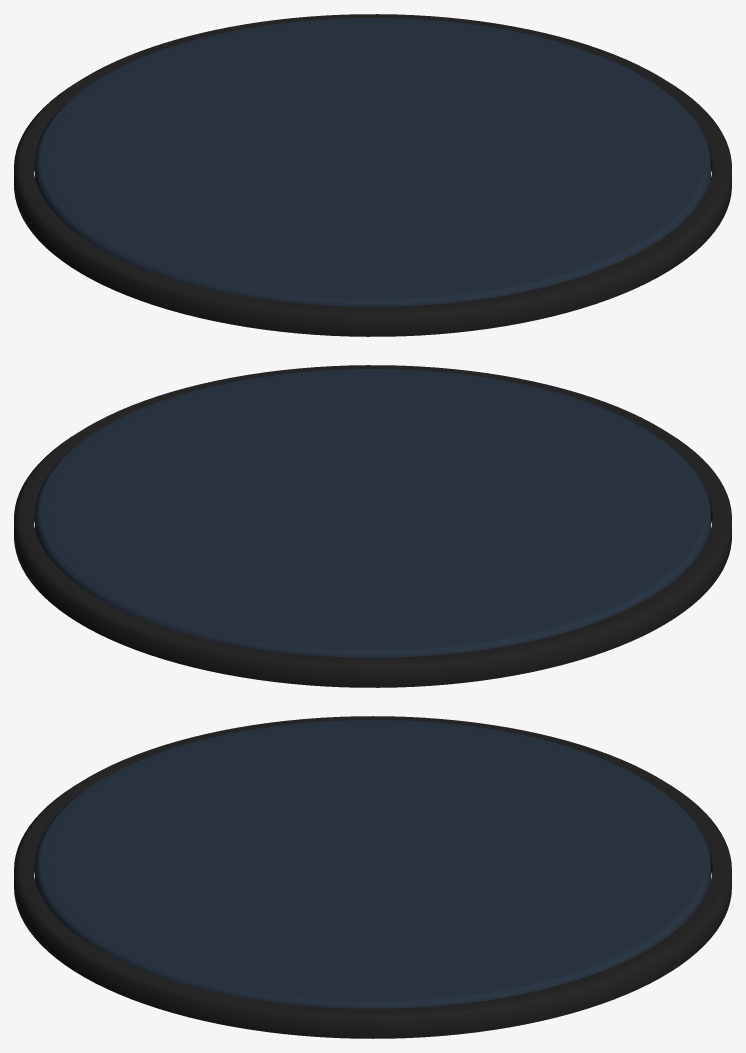
Rendered from gallery_podium.fbx.
The picture shows the model from 3 angles, top to bottom: view 1: azimuth 30°, elevation 25°; view 2: azimuth 150°, elevation 25°; view 3: azimuth 270°, elevation 25°; orthographic projection.
Visible parts, largest first — view 1: Cylinder.001, Cylinder; view 2: Cylinder.001, Cylinder; view 3: Cylinder.001, Cylinder.
Part boxes in pixels (bbox=[...]): Cylinder.001: bbox=[35, 18, 710, 306]; Cylinder: bbox=[14, 14, 731, 336]; Cylinder.001: bbox=[35, 369, 710, 657]; Cylinder: bbox=[14, 365, 731, 687]; Cylinder.001: bbox=[35, 720, 710, 1008]; Cylinder: bbox=[14, 716, 731, 1038].
Size of the model in its own units: 199 by 8.24 by 199.
